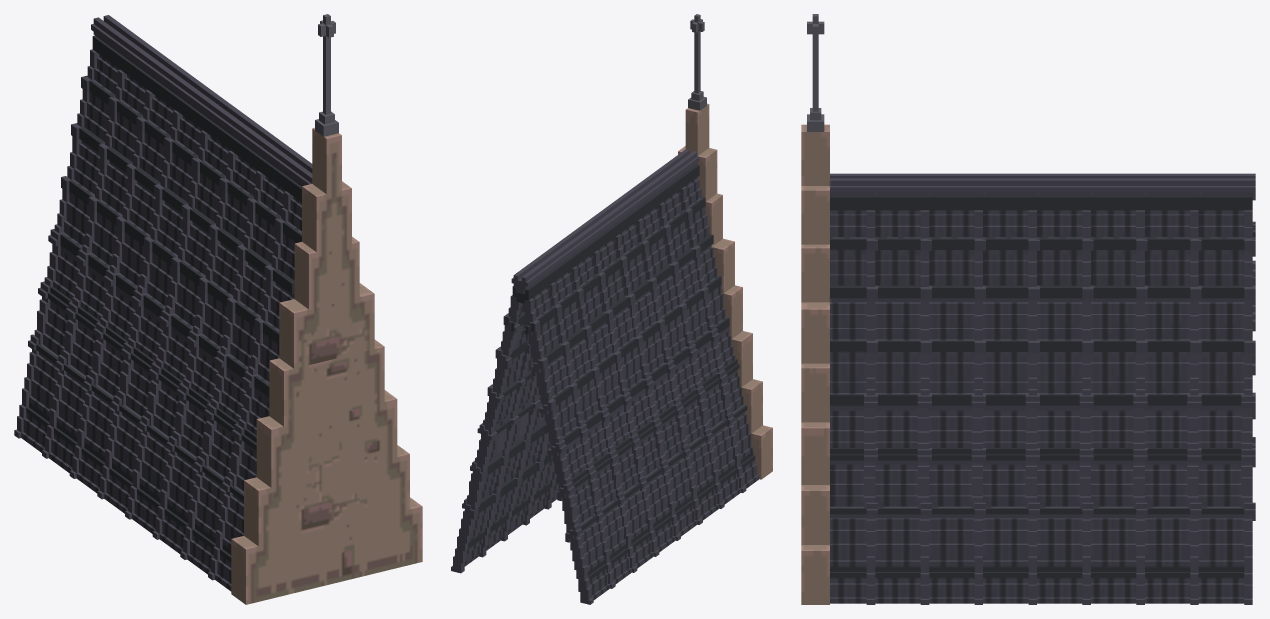
Rendered from Rooftop-0.fbx.
3 renders of one model, left to right at view 1: azimuth 30°, elevation 25°; view 2: azimuth 150°, elevation 25°; view 3: azimuth 270°, elevation 25°, orthographic. The views are drawn at different scales.
Parts seen in each view (by area): view 1: Rooftop-0; view 2: Rooftop-0; view 3: Rooftop-0.
Part boxes in pixels (x1,y1,x2,y2): Rooftop-0: [14, 14, 422, 604]; Rooftop-0: [451, 14, 772, 604]; Rooftop-0: [801, 14, 1255, 604].
Bounding box in the file's own units: 350 × 1065 × 800.
